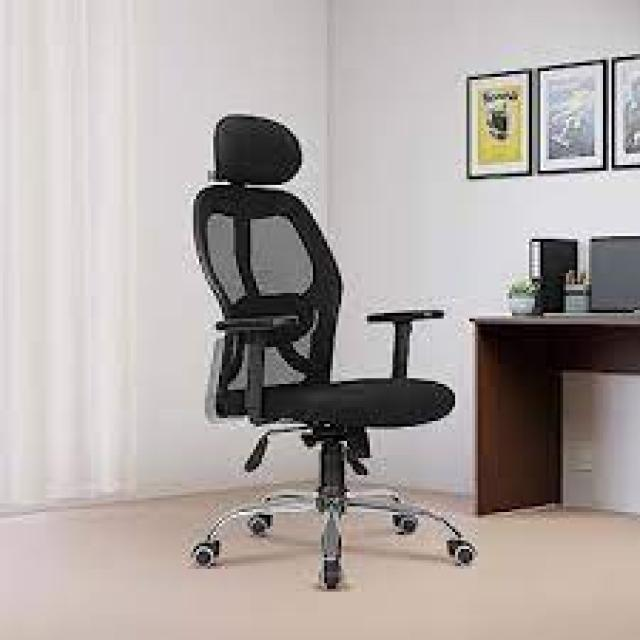chair: (121, 81, 496, 620)
